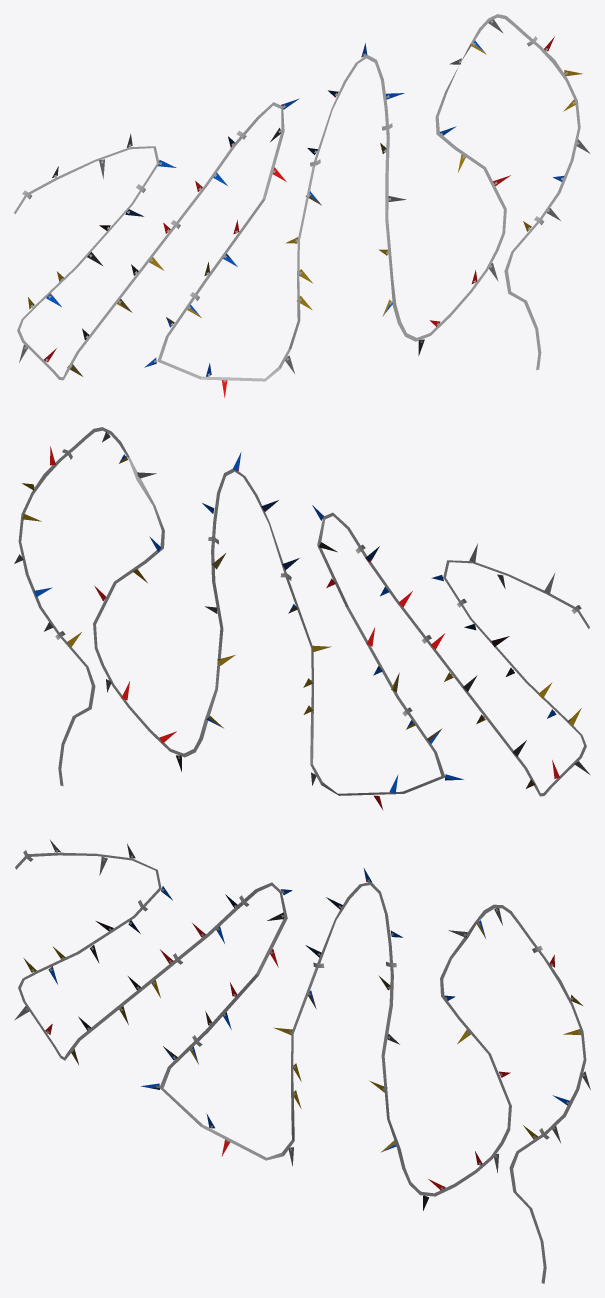
The model's file is Wall Fairy Lights.FBX.
3 renders of one model, top to bottom at view 1: azimuth 30°, elevation 25°; view 2: azimuth 150°, elevation 25°; view 3: azimuth 330°, elevation 25°, orthographic.
Visible parts, largest first — view 1: Wall Fairy Lights, Bulbs; view 2: Wall Fairy Lights, Bulbs; view 3: Wall Fairy Lights, Bulbs.
Part boxes in pixels (x1,y1,x2,y2): Wall Fairy Lights: (14,14,580,382); Bulbs: (19,19,590,397); Wall Fairy Lights: (18,427,589,796); Bulbs: (14,432,589,810); Wall Fairy Lights: (15,849,586,1283); Bulbs: (14,840,590,1210).
Bounding box in the file's own units: 162 × 100 × 4.67.
